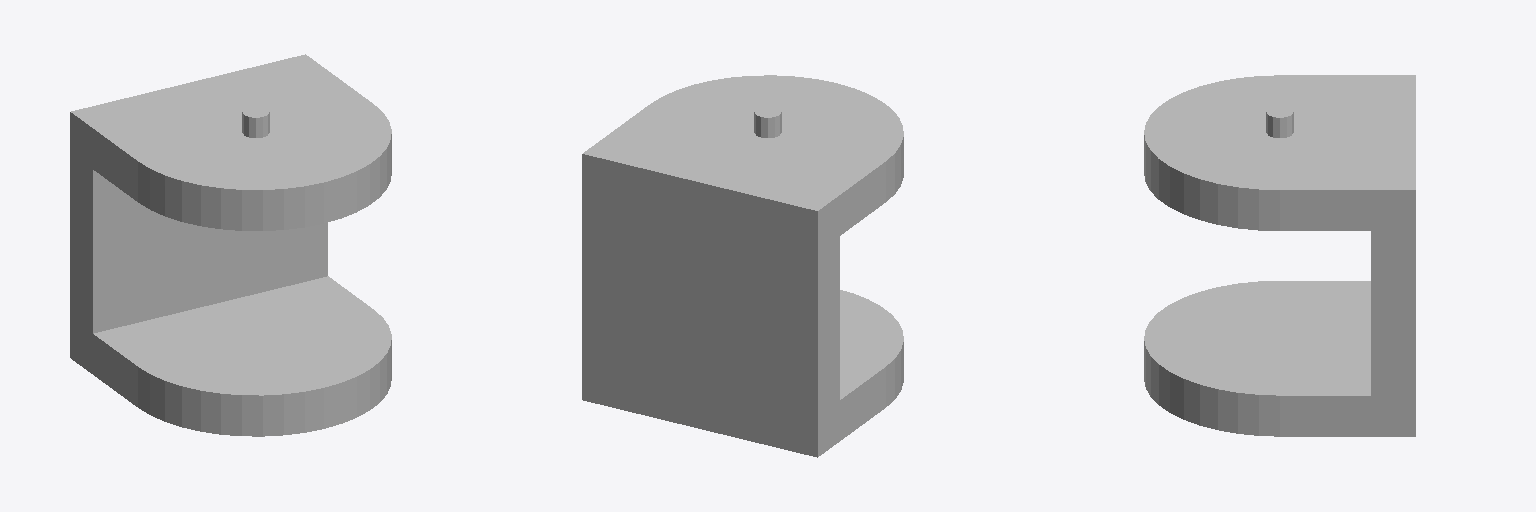
The model's file is ujointBracket.obj.
3 renders of one model, left to right at view 1: azimuth 30°, elevation 25°; view 2: azimuth 150°, elevation 25°; view 3: azimuth 270°, elevation 25°, orthographic.
Bounding box in the file's own units: 0.3 × 0.35 × 0.3.